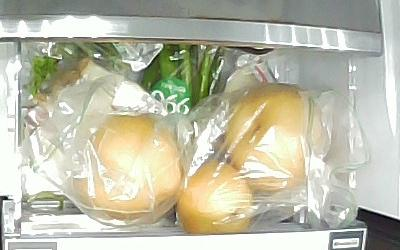pear_vinyl: (74, 114, 182, 222), (225, 82, 326, 191), (177, 161, 252, 234)
